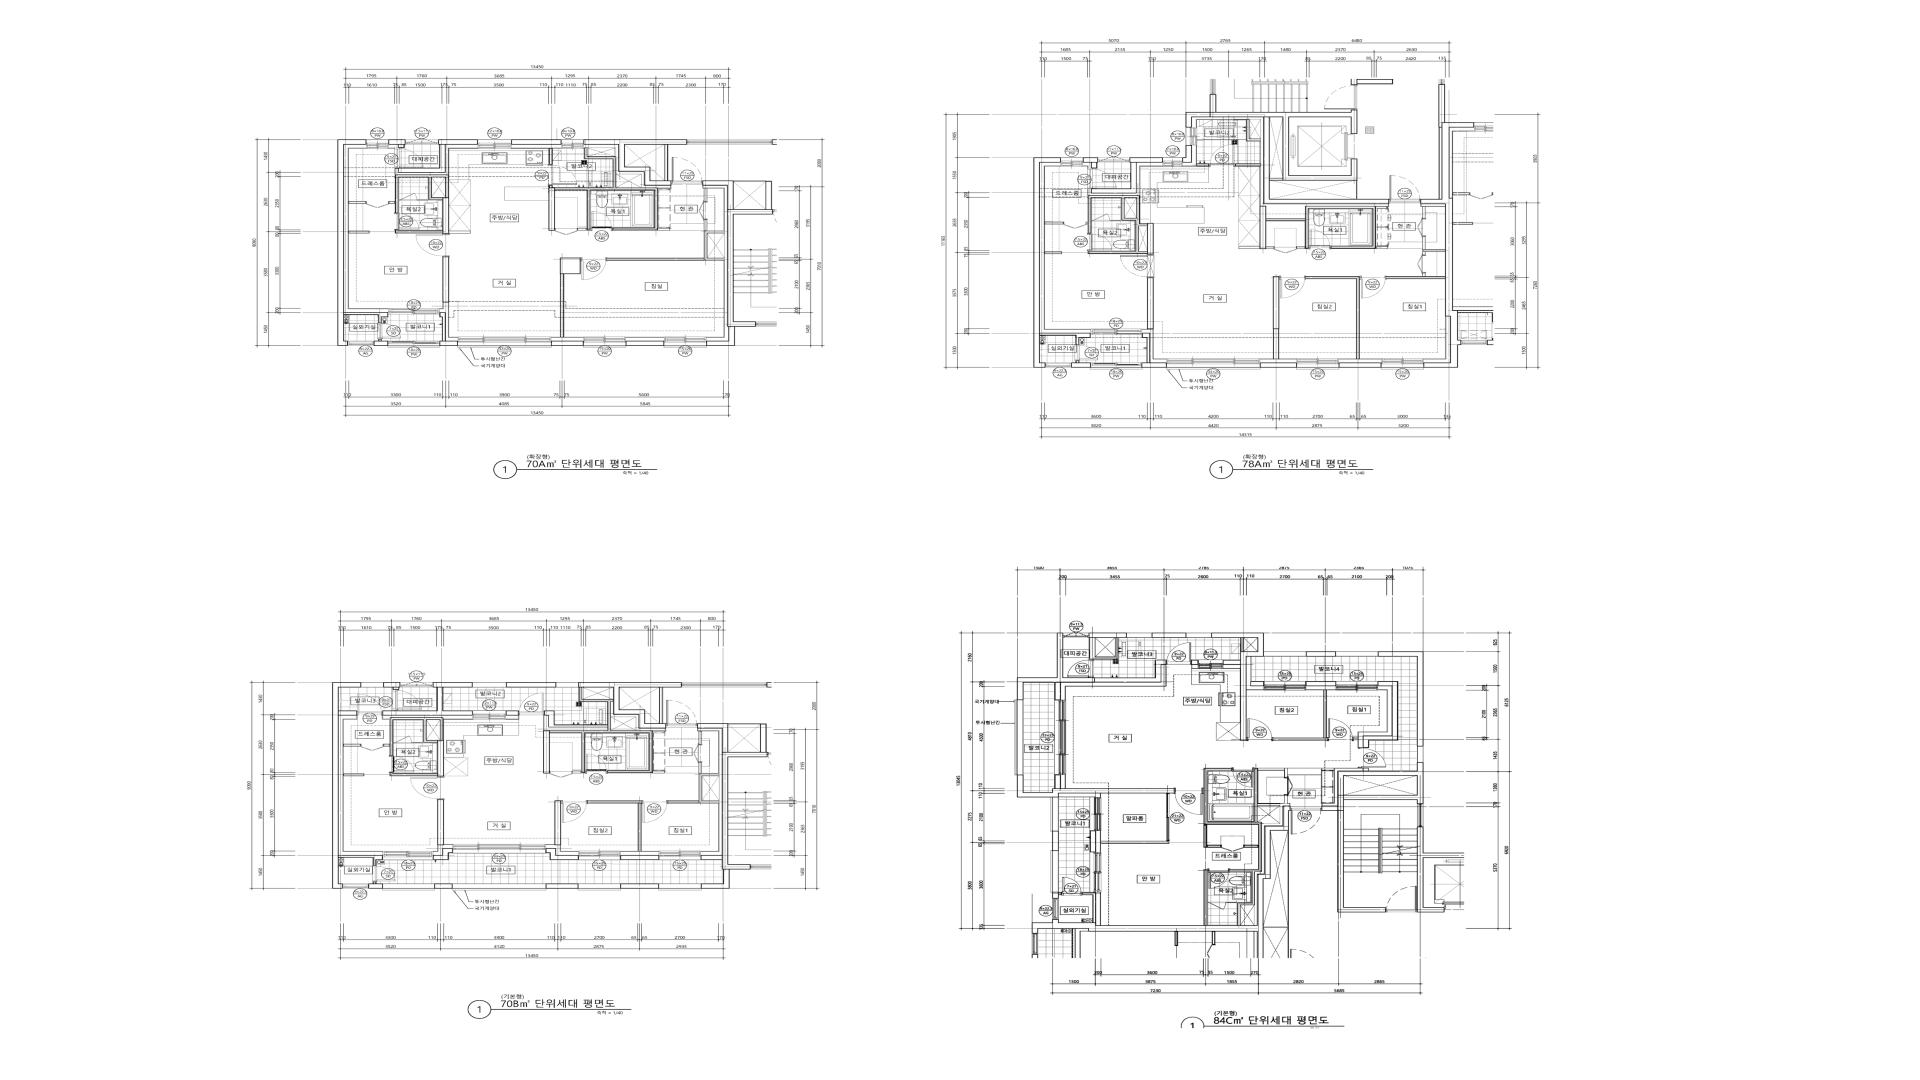door: (666, 700, 698, 728), (1291, 807, 1321, 835), (1389, 175, 1420, 202), (671, 157, 703, 183), (1174, 789, 1204, 815), (1324, 86, 1357, 109), (415, 233, 448, 257), (410, 777, 444, 799), (1120, 255, 1154, 277), (549, 165, 578, 186), (393, 690, 422, 711), (560, 800, 587, 823), (518, 692, 545, 715), (1209, 144, 1236, 166), (1246, 719, 1273, 741), (1328, 719, 1354, 741), (1088, 169, 1117, 189), (394, 148, 423, 167), (642, 800, 667, 823), (357, 694, 382, 716), (1166, 642, 1191, 665), (1360, 277, 1386, 298), (1279, 277, 1305, 298), (580, 258, 607, 280), (1358, 748, 1386, 767), (1067, 659, 1095, 678), (1308, 229, 1331, 249), (591, 211, 613, 231), (1207, 869, 1229, 889), (1088, 233, 1112, 252), (1233, 767, 1254, 787), (585, 754, 608, 773), (390, 756, 414, 773), (1062, 877, 1083, 895), (373, 866, 396, 882), (1076, 344, 1098, 360), (378, 323, 401, 339), (1208, 902, 1237, 910), (1166, 794, 1170, 841), (360, 744, 384, 750), (1063, 222, 1087, 228), (365, 202, 389, 208), (1284, 777, 1292, 796), (550, 771, 572, 778), (1274, 247, 1296, 253), (555, 228, 578, 235), (1221, 845, 1244, 852), (393, 736, 411, 744), (1418, 255, 1425, 273), (1092, 214, 1110, 222), (699, 202, 707, 220), (694, 745, 702, 762), (400, 193, 417, 200), (1418, 219, 1425, 236)
wall: (1031, 806, 1290, 959), (1185, 94, 1389, 204), (1386, 84, 1458, 368), (1192, 117, 1390, 219), (607, 186, 728, 342), (1321, 762, 1424, 913), (1204, 767, 1290, 926), (543, 682, 682, 774), (1034, 157, 1091, 368), (698, 724, 767, 889), (703, 181, 773, 345), (332, 682, 382, 889), (338, 140, 388, 345), (1017, 633, 1166, 700), (555, 145, 671, 231), (1040, 162, 1091, 332), (339, 716, 382, 856), (1212, 633, 1265, 741), (1259, 206, 1377, 249), (584, 140, 687, 186), (1305, 277, 1360, 359), (1378, 651, 1424, 746), (1418, 827, 1464, 913), (1088, 195, 1154, 255), (1017, 775, 1174, 798), (390, 717, 444, 777), (382, 682, 472, 716), (698, 729, 721, 856), (394, 140, 477, 175), (587, 800, 642, 852), (1273, 690, 1328, 741), (1091, 157, 1163, 194), (1358, 682, 1398, 748), (1088, 162, 1163, 195), (1263, 831, 1288, 927), (389, 175, 448, 214), (551, 274, 583, 342), (1321, 767, 1364, 806), (611, 702, 666, 731), (1344, 775, 1418, 795), (1424, 316, 1451, 363), (543, 715, 608, 731), (512, 145, 562, 165), (1142, 334, 1167, 368), (1142, 330, 1167, 363), (439, 302, 458, 342), (1089, 638, 1118, 659), (439, 313, 458, 345), (1273, 277, 1279, 359), (707, 233, 725, 258), (1257, 806, 1280, 824), (1423, 236, 1445, 255), (702, 777, 719, 800), (546, 844, 579, 856), (546, 848, 579, 860), (1420, 204, 1445, 219), (382, 716, 472, 720), (1147, 277, 1154, 330), (560, 257, 580, 274), (1183, 145, 1197, 166), (1246, 120, 1261, 141), (438, 799, 444, 845), (554, 800, 560, 845), (549, 186, 555, 231), (426, 720, 440, 740), (1350, 79, 1394, 86), (587, 148, 616, 157), (512, 140, 562, 145), (506, 682, 556, 687), (1089, 831, 1101, 852), (1305, 682, 1336, 690), (443, 257, 448, 302), (433, 848, 452, 860), (1125, 198, 1137, 218), (433, 844, 452, 856), (1204, 869, 1208, 926), (1338, 363, 1381, 368), (620, 851, 659, 856), (1089, 633, 1126, 638), (621, 884, 658, 889), (394, 229, 443, 233), (1083, 157, 1098, 169), (1261, 363, 1296, 368), (443, 198, 448, 233), (1153, 633, 1187, 638), (1101, 841, 1170, 844), (546, 884, 578, 889), (1338, 359, 1381, 363), (1305, 651, 1336, 657), (1183, 145, 1192, 162), (620, 856, 659, 860), (1071, 360, 1091, 368), (626, 338, 663, 342), (626, 342, 663, 345), (1261, 359, 1296, 363), (384, 682, 401, 690), (1052, 831, 1059, 851), (551, 342, 583, 345), (389, 140, 405, 148), (659, 687, 662, 724), (434, 884, 452, 889), (368, 882, 382, 889), (373, 339, 388, 345), (665, 145, 667, 181), (667, 800, 699, 803), (505, 711, 518, 716), (1236, 164, 1261, 166), (1191, 661, 1199, 669), (448, 231, 471, 233), (348, 231, 369, 233), (1238, 247, 1259, 249), (1083, 162, 1091, 169), (505, 716, 518, 720), (348, 202, 365, 204), (733, 181, 766, 182), (389, 145, 398, 149), (1270, 178, 1283, 181), (1196, 164, 1209, 166), (1241, 638, 1244, 651), (1052, 893, 1059, 898), (653, 770, 665, 773), (1377, 247, 1387, 249), (1296, 247, 1305, 249), (1266, 247, 1274, 249), (384, 744, 390, 746), (1110, 220, 1121, 222), (417, 199, 427, 200), (411, 742, 422, 744), (572, 771, 582, 773), (1423, 273, 1425, 277), (1353, 738, 1358, 740), (1059, 893, 1062, 895), (1087, 222, 1088, 224), (1357, 181, 1357, 199), (728, 724, 761, 724)
window: (1166, 359, 1261, 369), (458, 338, 551, 348), (452, 844, 546, 853), (1055, 700, 1065, 775), (452, 884, 546, 890), (1015, 700, 1023, 775), (1089, 852, 1101, 893), (583, 338, 626, 348), (663, 338, 707, 348), (1381, 359, 1424, 369), (1296, 359, 1338, 369), (1091, 330, 1142, 338), (382, 852, 433, 860), (1089, 798, 1101, 831), (1050, 851, 1059, 893), (659, 851, 700, 860), (579, 851, 620, 860), (382, 884, 435, 890), (388, 342, 440, 348), (1091, 363, 1142, 369), (1263, 682, 1305, 690), (1336, 682, 1378, 690), (472, 711, 506, 720), (477, 140, 512, 149), (1050, 798, 1059, 831), (578, 884, 621, 890), (658, 884, 702, 890), (388, 309, 439, 314), (1199, 659, 1224, 669), (1336, 651, 1378, 657), (1263, 651, 1305, 657), (405, 138, 438, 145), (562, 140, 584, 149), (1060, 157, 1083, 166), (367, 140, 389, 149), (1185, 128, 1197, 145), (1163, 157, 1183, 166), (472, 682, 506, 687), (1063, 632, 1089, 638), (400, 682, 433, 687), (1098, 157, 1130, 162), (1418, 804, 1424, 827), (1052, 898, 1059, 919), (1126, 633, 1153, 638), (1046, 363, 1071, 368), (343, 884, 368, 889), (1187, 633, 1212, 638), (361, 682, 384, 687), (556, 682, 579, 687), (1418, 746, 1424, 762), (348, 342, 373, 345)
